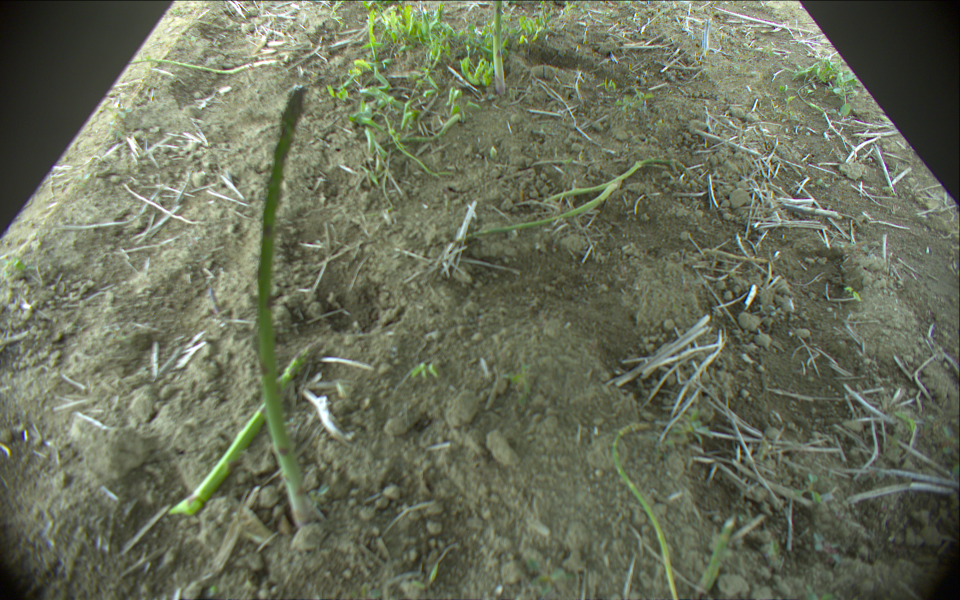aspa: (167, 338, 326, 516), (254, 87, 313, 526), (610, 422, 681, 600), (455, 186, 620, 242), (543, 158, 686, 203), (376, 111, 462, 148), (696, 518, 737, 593), (131, 58, 279, 74), (492, 1, 507, 97)
